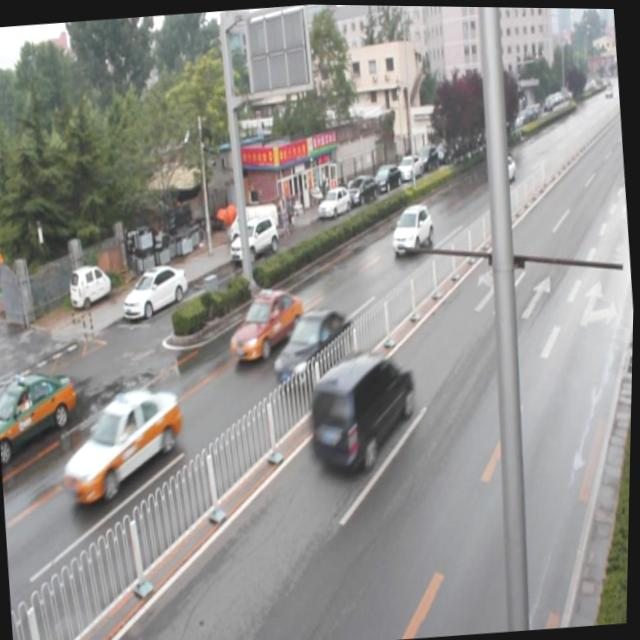car: (56, 382, 191, 507), (271, 304, 357, 387), (225, 281, 305, 362), (391, 202, 435, 253), (487, 151, 516, 180)
truck: (305, 350, 420, 476)
